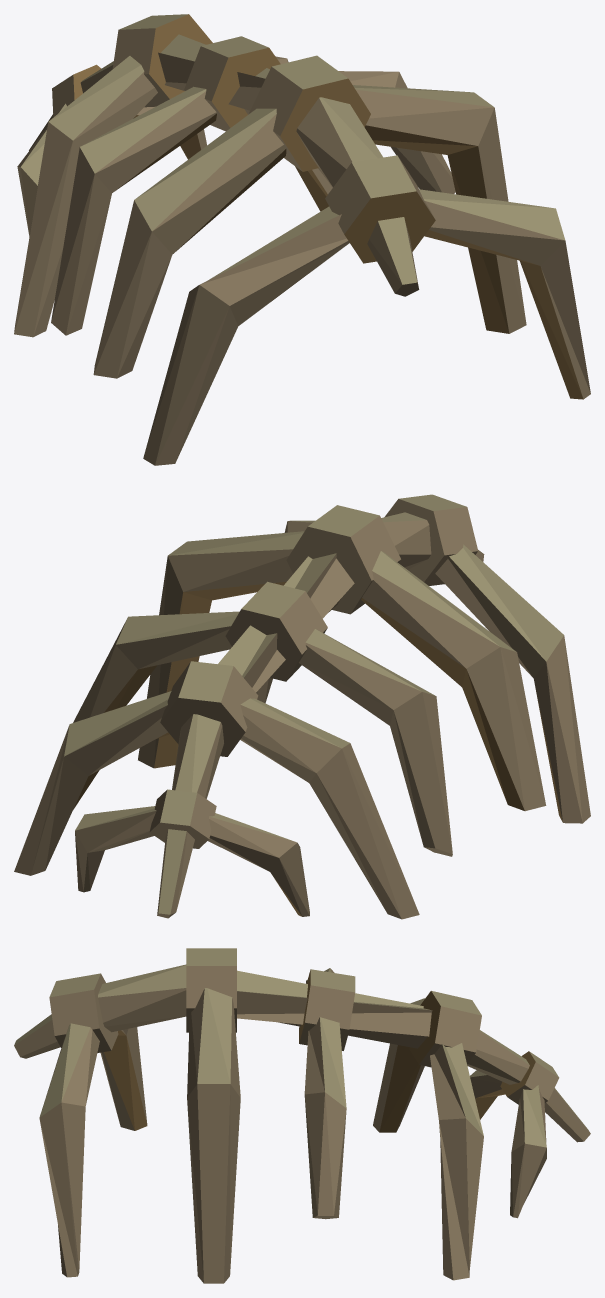
File: TB_D_Env_BoneC_B.FBX
3 renders of one model, top to bottom at view 1: azimuth 30°, elevation 25°; view 2: azimuth 150°, elevation 25°; view 3: azimuth 270°, elevation 25°, orthographic. The views are drawn at different scales.
Parts seen in each view (by area): view 1: TB_D_Env_BoneC_B; view 2: TB_D_Env_BoneC_B; view 3: TB_D_Env_BoneC_B.
Boxes of the visible parts, x1=… form: TB_D_Env_BoneC_B: x1=14, y1=14, x2=590, y2=465; TB_D_Env_BoneC_B: x1=14, y1=494, x2=590, y2=919; TB_D_Env_BoneC_B: x1=14, y1=948, x2=590, y2=1283.
Size of the model in its own units: 3.19 by 2.16 by 4.59.
